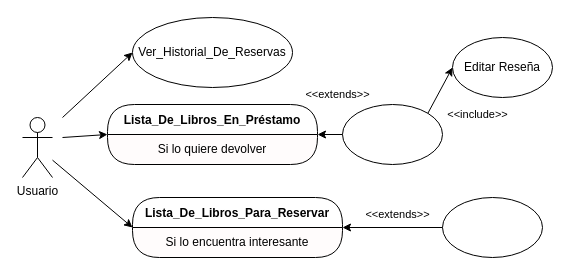
Some shapes in this 570 by 275 pixel diagram are drawn without their labels. The box of each missing label's shape, as (x1, y1, x2, y2) in pixels:
Devolver libro: (342, 104, 442, 164)
Reservar: (442, 196, 542, 258)
